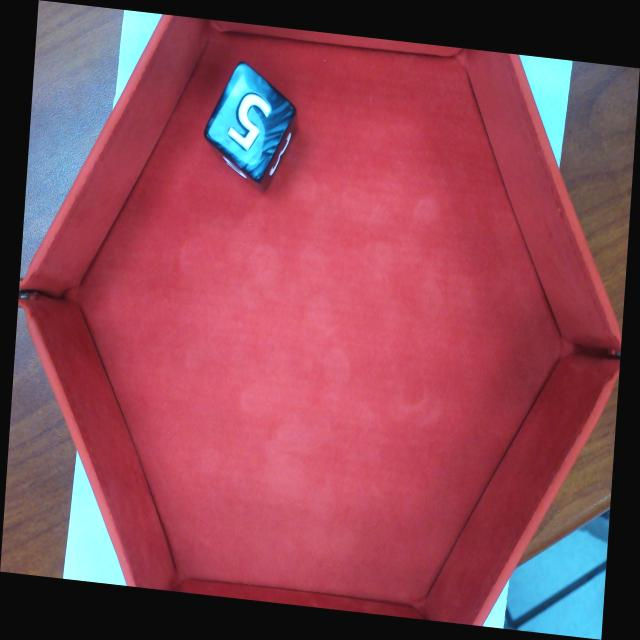dice: (207, 64, 293, 182)
